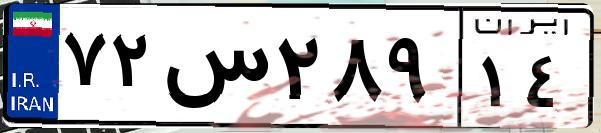1: (475, 38, 525, 113)
2: (270, 28, 330, 110), (110, 28, 158, 98)
4: (525, 38, 570, 115)
7: (57, 26, 110, 100)
8: (330, 28, 385, 110)
9: (385, 28, 445, 110)
س: (158, 20, 270, 120)
